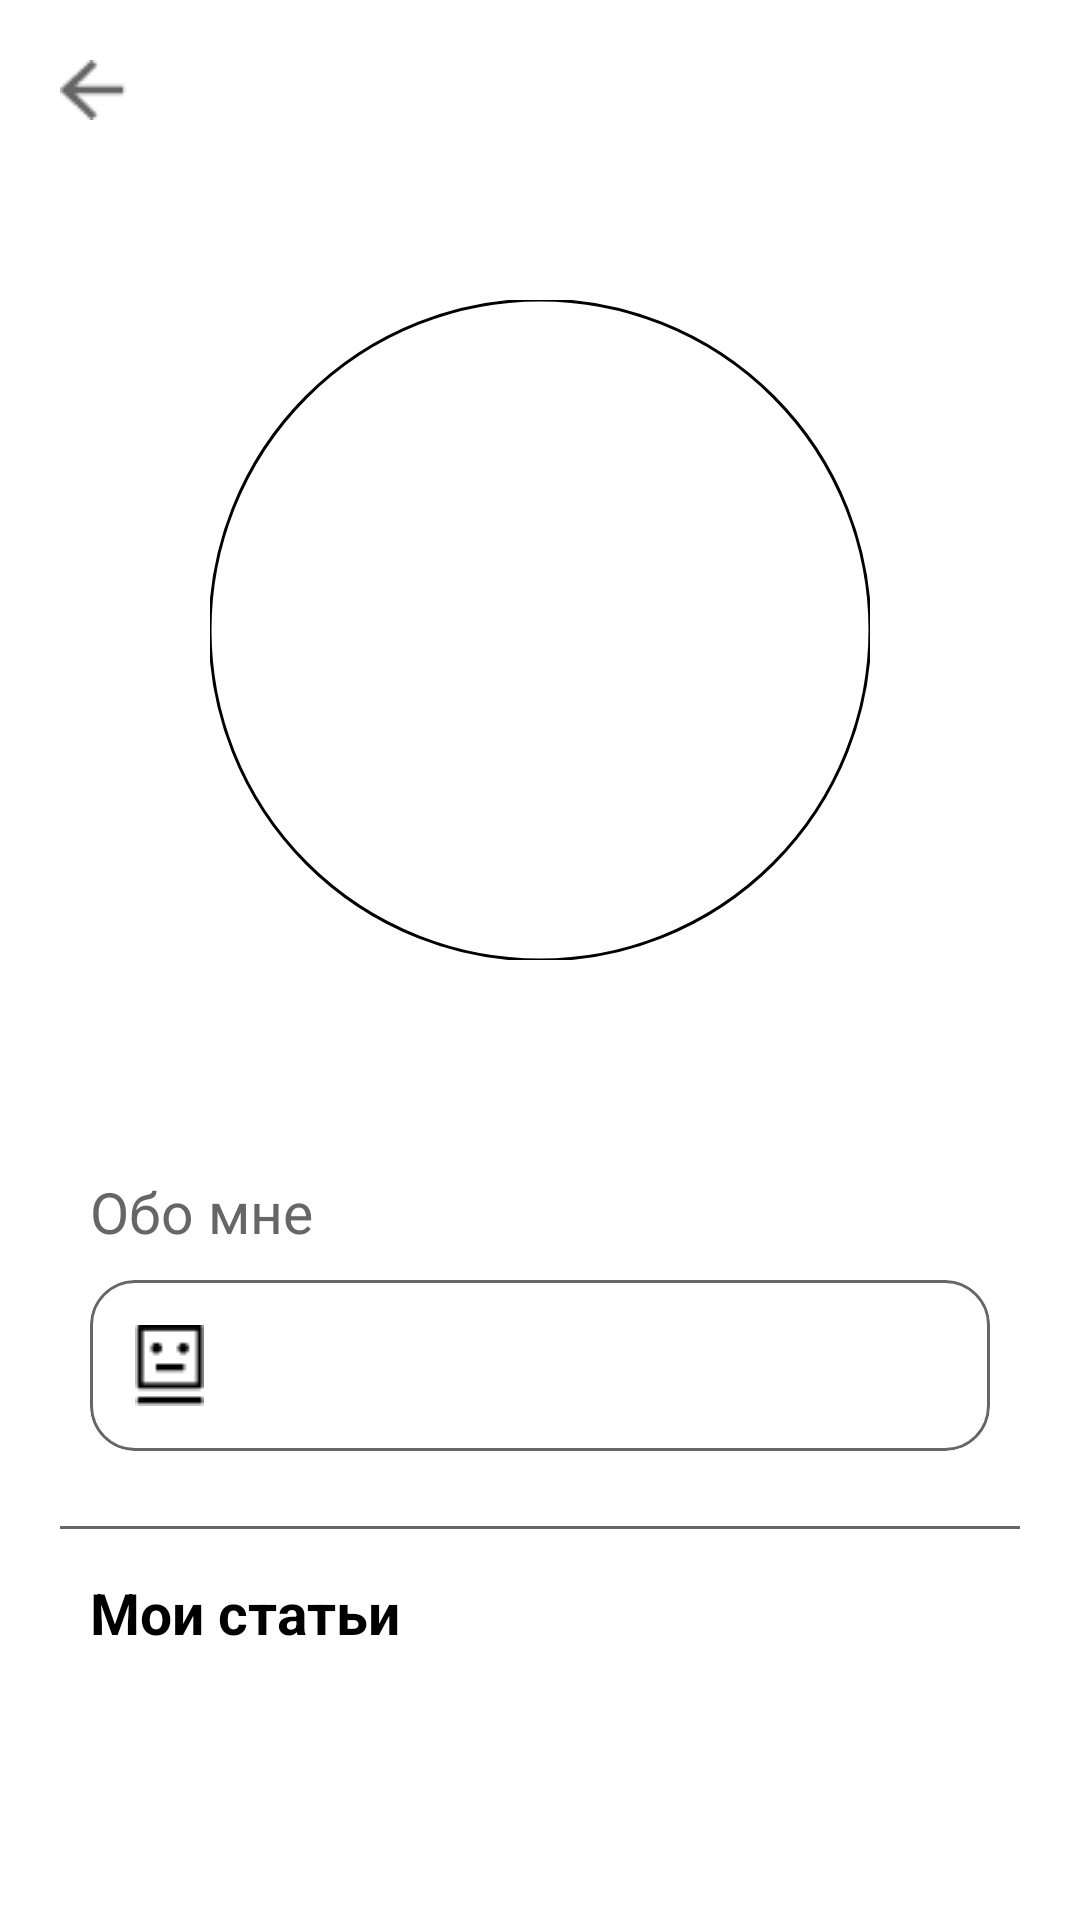

Locate icon controls on the screen. Image size 1080*1920, boxes as (x1, y1, x2, y2).
back: (60, 60, 124, 120)
robot: (135, 1325, 204, 1406)
